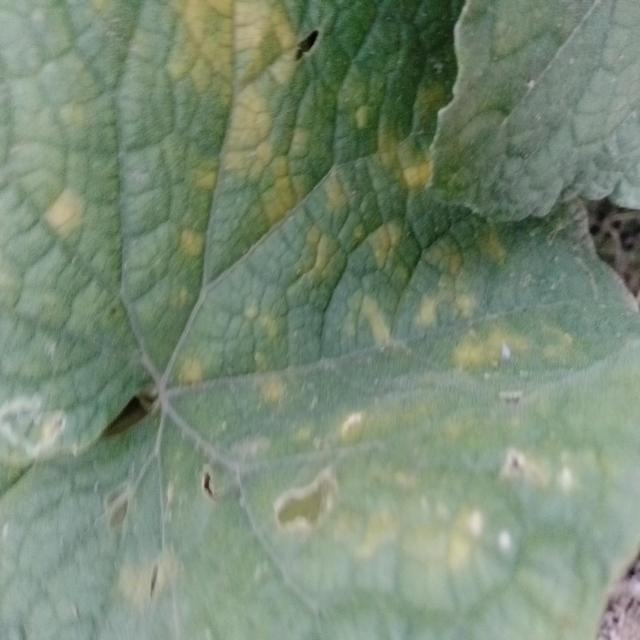cucumber_downy: (1, 0, 426, 640), (405, 227, 640, 640)
